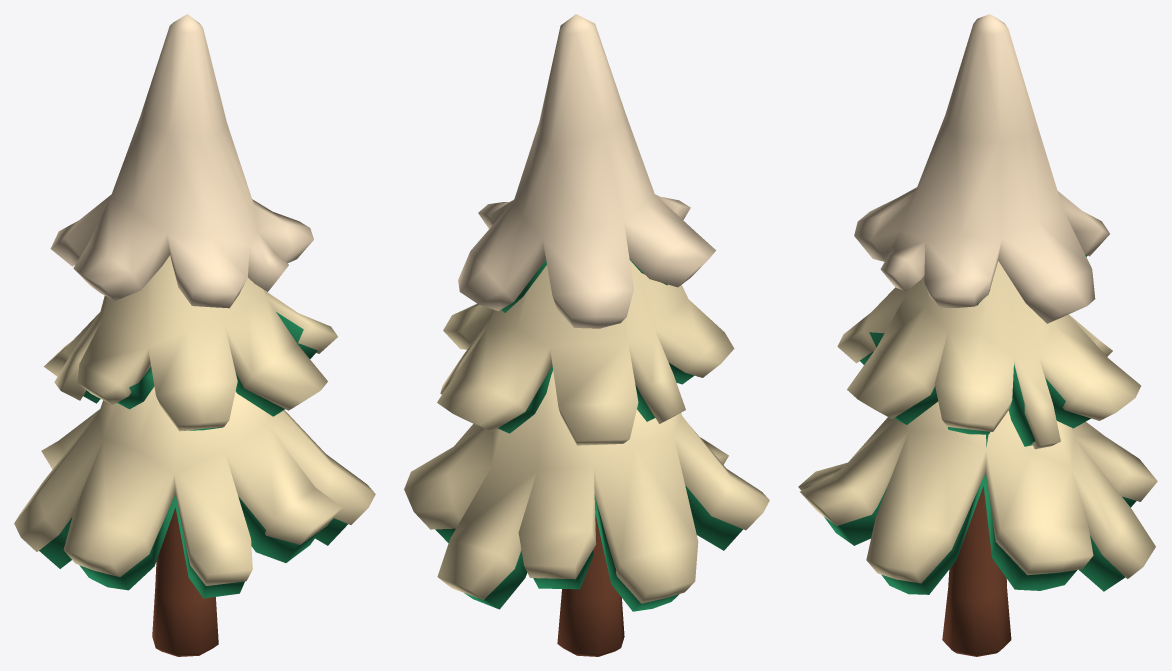
The model's file is treesnow11.fbx.
3 views of the same model, side by side, from view 1: azimuth 30°, elevation 25°; view 2: azimuth 150°, elevation 25°; view 3: azimuth 270°, elevation 25° (orthographic).
Visible parts, largest first — view 1: Plane.006; view 2: Plane.006; view 3: Plane.006.
Part boxes in pixels (box(x1,y1,x2,y2)): Plane.006: box(14, 14, 375, 656); Plane.006: box(404, 14, 769, 656); Plane.006: box(798, 14, 1157, 656).
Bounding box in the file's own units: 48.19 × 96.74 × 49.65.
